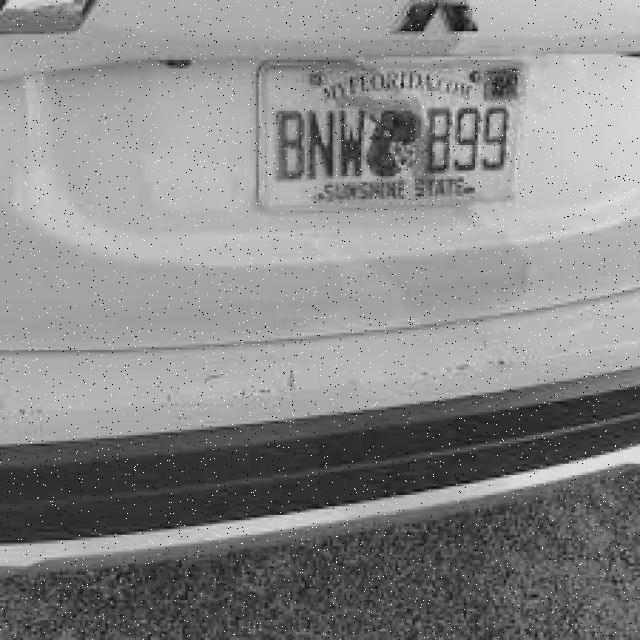car damage: (11, 335, 531, 422)
